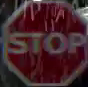Stop: (3, 1, 87, 86)
